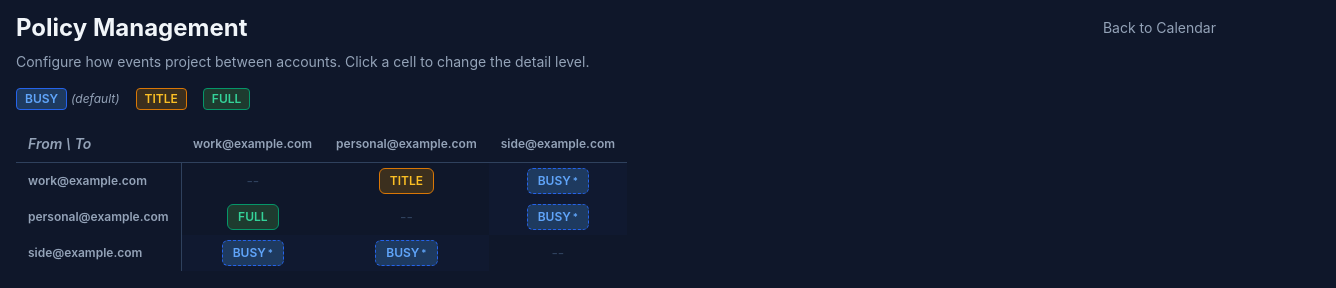
Scenario: Policies Page › save feedback › shows error message after failed save
What coordinates should you click on to do the following:
click the button with test id "cell-btn-acc-work-acc-personal"
I would click on:
 (406, 181)
Its box is [379, 168, 434, 194].
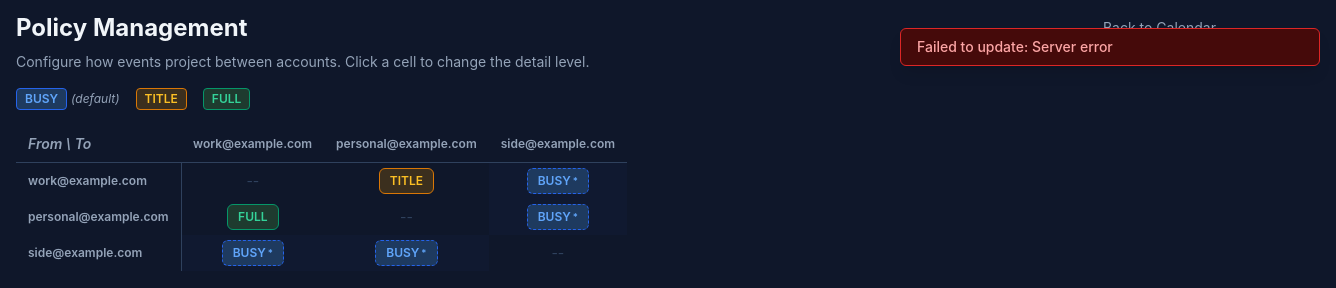
Check: the message with test id "policy-status" shows "Failed to update", box [917, 38, 1113, 55]
Check: the message with test id "policy-status" shows "Server error", box [917, 38, 1113, 55]
